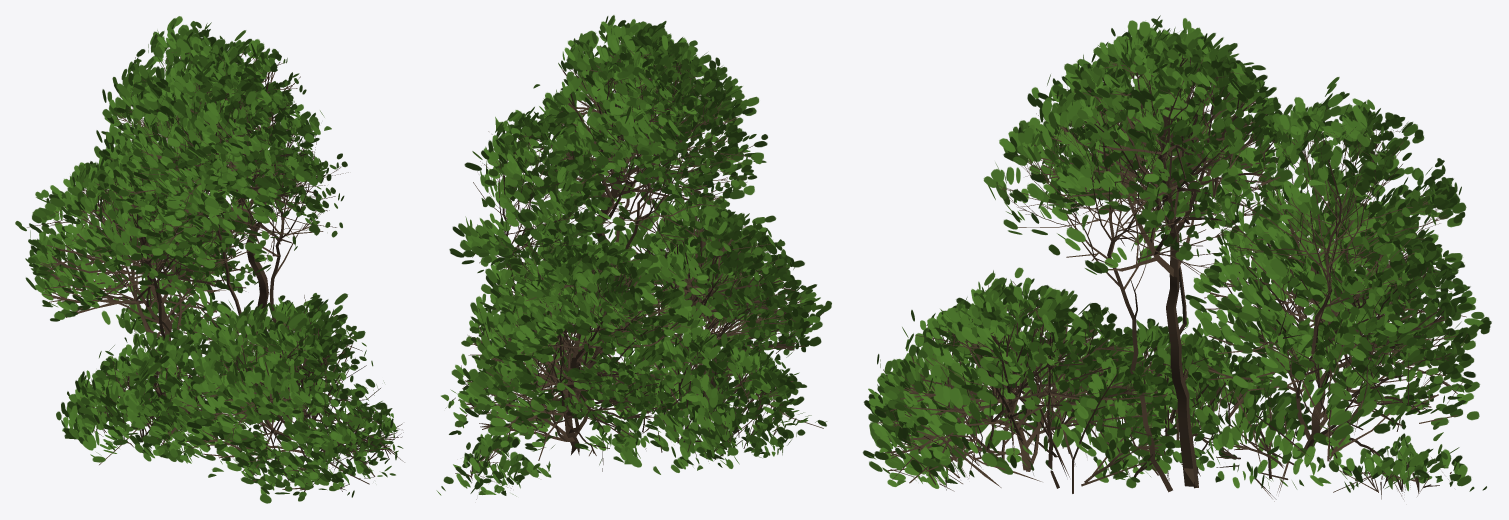
The picture shows the model from 3 angles, left to right: view 1: azimuth 30°, elevation 25°; view 2: azimuth 150°, elevation 25°; view 3: azimuth 270°, elevation 25°; orthographic projection. The views are drawn at different scales.
Visible parts, largest first — view 1: oak 01.001_trunk_Mat.001_0.461; view 2: oak 01.001_trunk_Mat.001_0.461; view 3: oak 01.001_trunk_Mat.001_0.461.
Boxes of the visible parts, bbox=[...] form: oak 01.001_trunk_Mat.001_0.461: bbox=[15, 16, 404, 503]; oak 01.001_trunk_Mat.001_0.461: bbox=[436, 15, 831, 499]; oak 01.001_trunk_Mat.001_0.461: bbox=[862, 15, 1491, 501].
Bounding box in the file's own units: 2.65 × 4.02 × 5.03.
2 materials, 1 textured.
